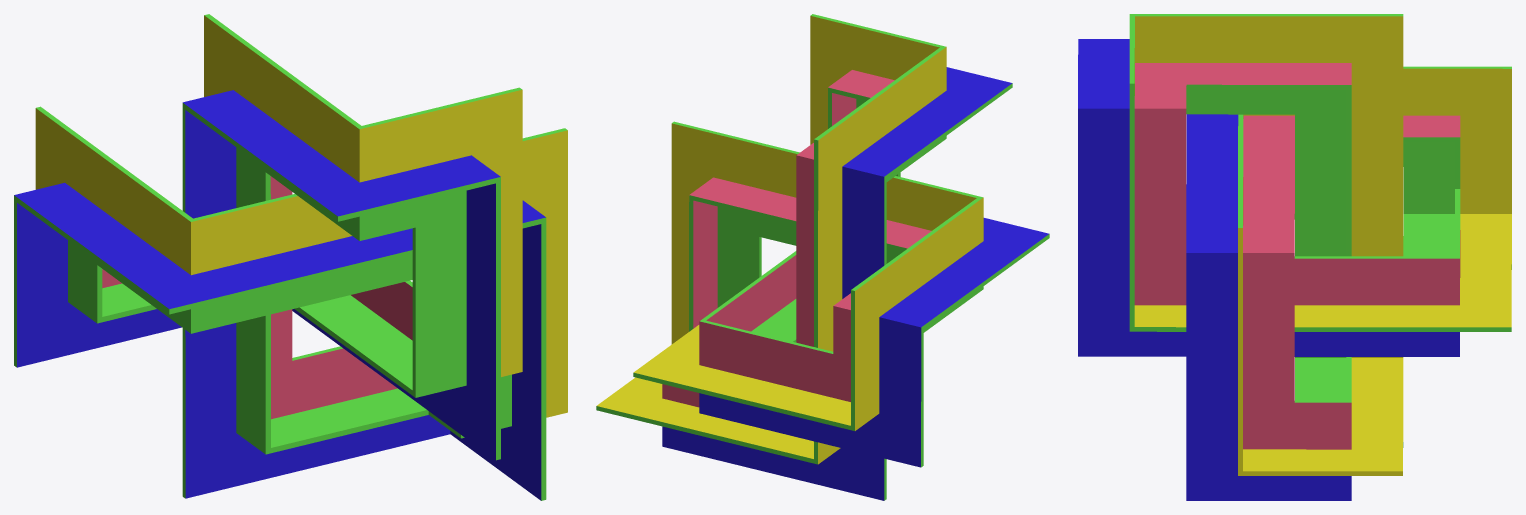
Rendered from TrefoilKnot.glb.
3 renders of one model, left to right at view 1: azimuth 30°, elevation 25°; view 2: azimuth 150°, elevation 25°; view 3: azimuth 270°, elevation 25°, orthographic. The views are drawn at different scales.
Visible parts, largest first — view 1: KNOT_POLYGON_3X_1Cube; view 2: KNOT_POLYGON_3X_1Cube; view 3: KNOT_POLYGON_3X_1Cube.
Part boxes in pixels (box(x1,y1,x2,y2)): KNOT_POLYGON_3X_1Cube: box(14, 14, 567, 500); KNOT_POLYGON_3X_1Cube: box(596, 14, 1049, 500); KNOT_POLYGON_3X_1Cube: box(1078, 14, 1511, 500).
Size of the model in its own units: 100 by 100 by 100.
